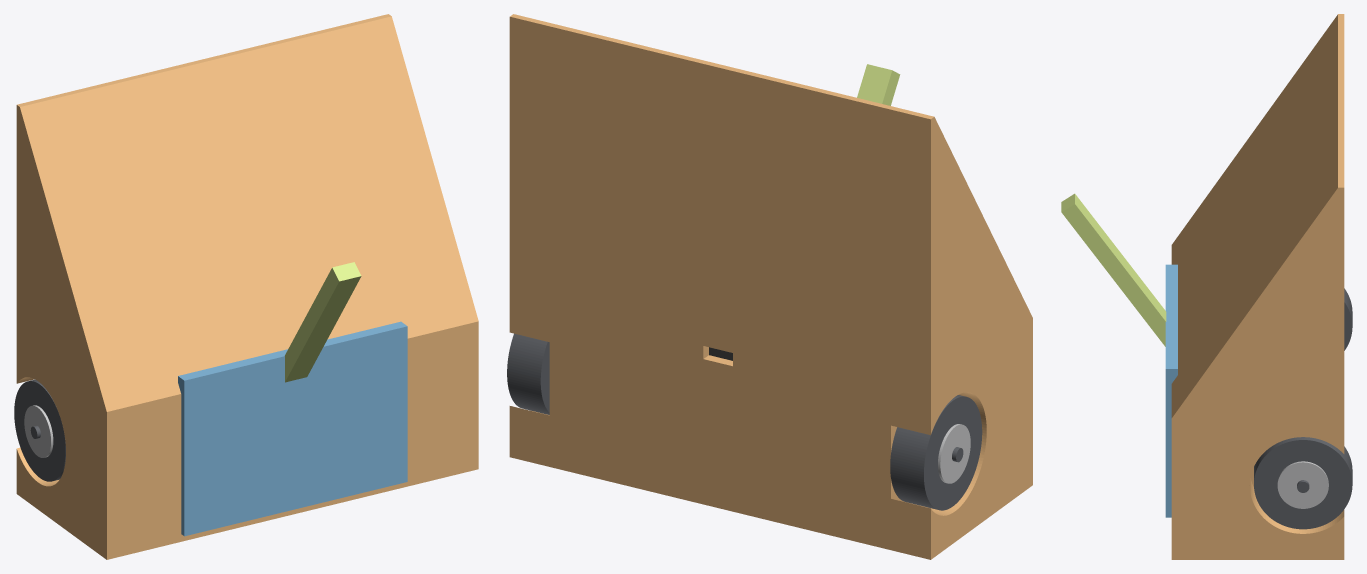
File: brisk.glb
3 renders of one model, left to right at view 1: azimuth 30°, elevation 25°; view 2: azimuth 150°, elevation 25°; view 3: azimuth 270°, elevation 25°, orthographic. The views are drawn at different scales.
Parts seen in each view (by area): view 1: chassis, lid, flipper, wheel_r0, dt_hub_wheel_r0; view 2: chassis, wheel_r0, wheel_l0, dt_hub_wheel_r0, flipper; view 3: chassis, wheel_l0, flipper, lid, dt_hub_wheel_l0, wheel_r0.
Part boxes in pixels (<box>): chassis: <box>16,14,478,559</box>; lid: <box>178,321,407,536</box>; flipper: <box>285,262,361,382</box>; wheel_r0: <box>14,379,65,481</box>; dt_hub_wheel_r0: <box>24,405,53,457</box>; chassis: <box>509,14,1032,559</box>; wheel_r0: <box>890,395,982,510</box>; wheel_l0: <box>507,333,549,414</box>; dt_hub_wheel_r0: <box>938,424,970,483</box>; flipper: <box>857,64,900,105</box>; chassis: <box>1171,14,1344,559</box>; wheel_l0: <box>1254,437,1352,529</box>; flipper: <box>1061,193,1166,346</box>; lid: <box>1165,264,1177,517</box>; dt_hub_wheel_l0: <box>1277,461,1328,508</box>; wheel_r0: <box>1344,288,1352,350</box>.
Bounding box in the file's own units: 102 × 100 × 70.85.
